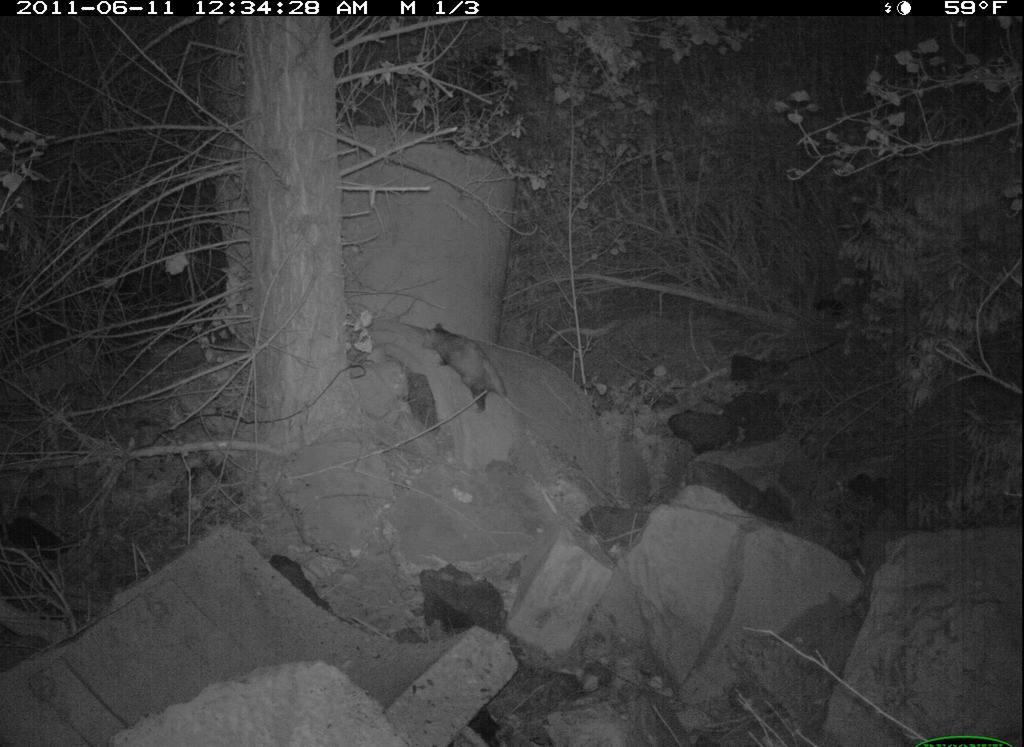opossum: (420, 319, 548, 431)
